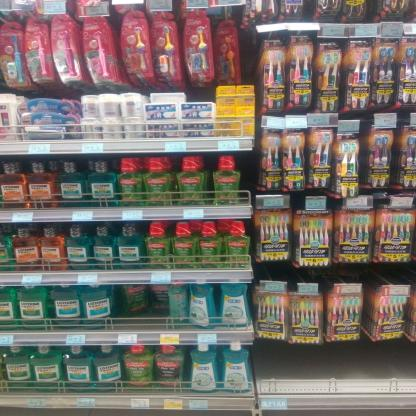Void: (258, 343, 415, 391), (114, 286, 170, 325), (239, 154, 256, 205)
